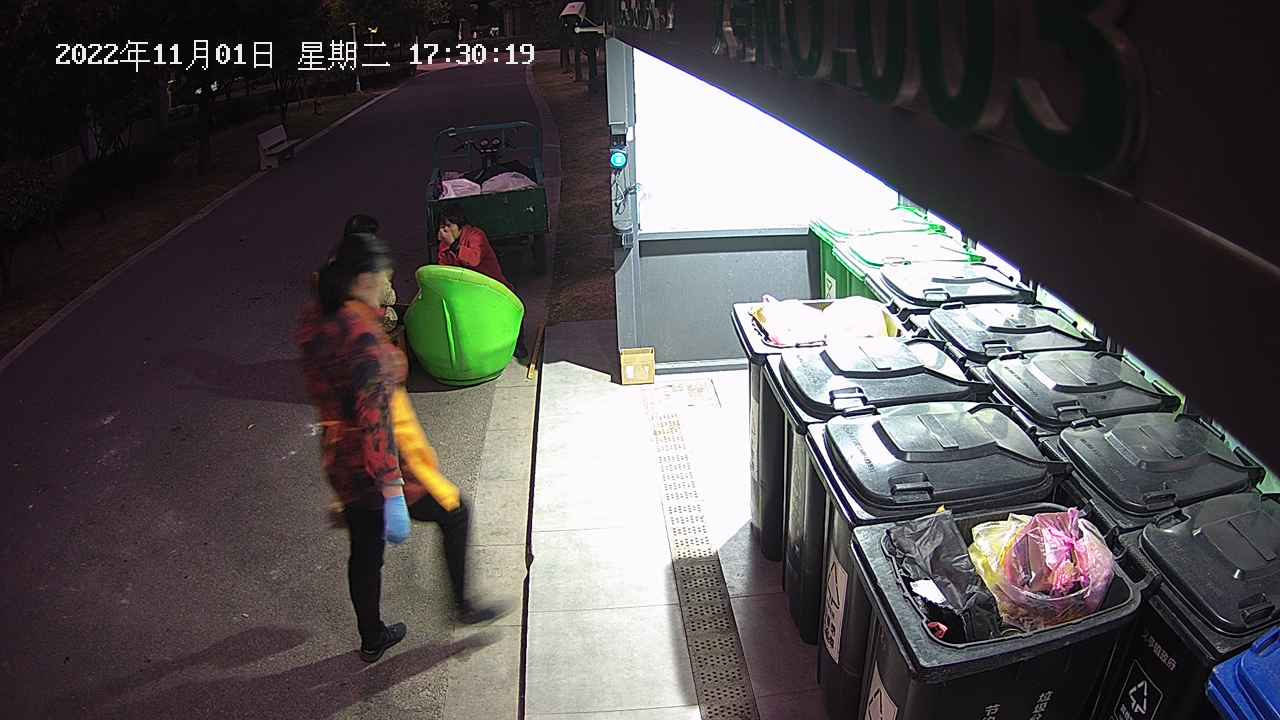person: (288, 207, 523, 665)
zhizhipin: (616, 345, 657, 388)
